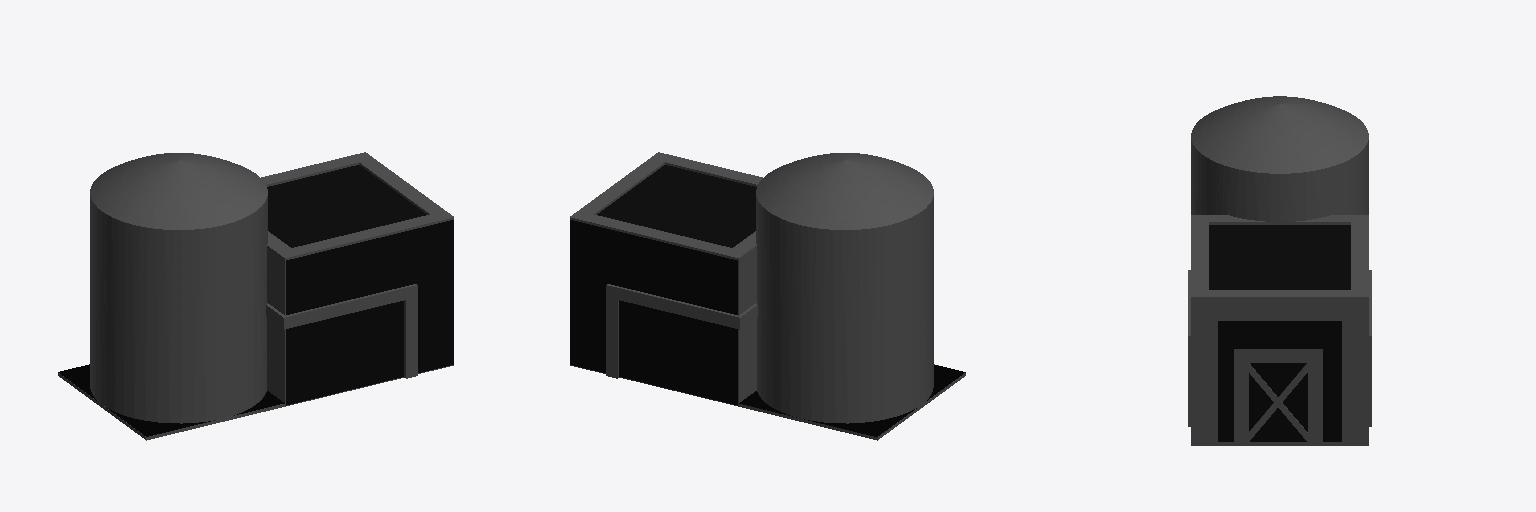
File: batiment_reacteur.obj
3 views of the same model, side by side, from view 1: azimuth 30°, elevation 25°; view 2: azimuth 150°, elevation 25°; view 3: azimuth 270°, elevation 25° (orthographic).
Parts seen in each view (by area): view 1: batiment_réacteur_BatimentReacteur, BatimentCarre_BatimentCarre, Sol_Sol; view 2: batiment_réacteur_BatimentReacteur, BatimentCarre_BatimentCarre, Sol_Sol; view 3: batiment_réacteur_BatimentReacteur, BatimentCarre_BatimentCarre.
Part boxes in pixels (bbox=[...]): batiment_réacteur_BatimentReacteur: bbox=[58, 152, 453, 440]; BatimentCarre_BatimentCarre: bbox=[267, 165, 453, 405]; Sol_Sol: bbox=[58, 364, 284, 436]; batiment_réacteur_BatimentReacteur: bbox=[570, 152, 965, 440]; BatimentCarre_BatimentCarre: bbox=[570, 165, 756, 405]; Sol_Sol: bbox=[739, 365, 965, 436]; batiment_réacteur_BatimentReacteur: bbox=[1188, 96, 1371, 445]; BatimentCarre_BatimentCarre: bbox=[1209, 225, 1350, 441].
Size of the model in its own units: 200 by 142 by 104.